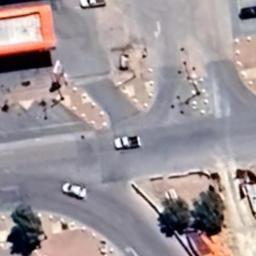SUV: (62, 182, 88, 200)
pickup: (114, 136, 142, 150), (79, 0, 106, 9)
